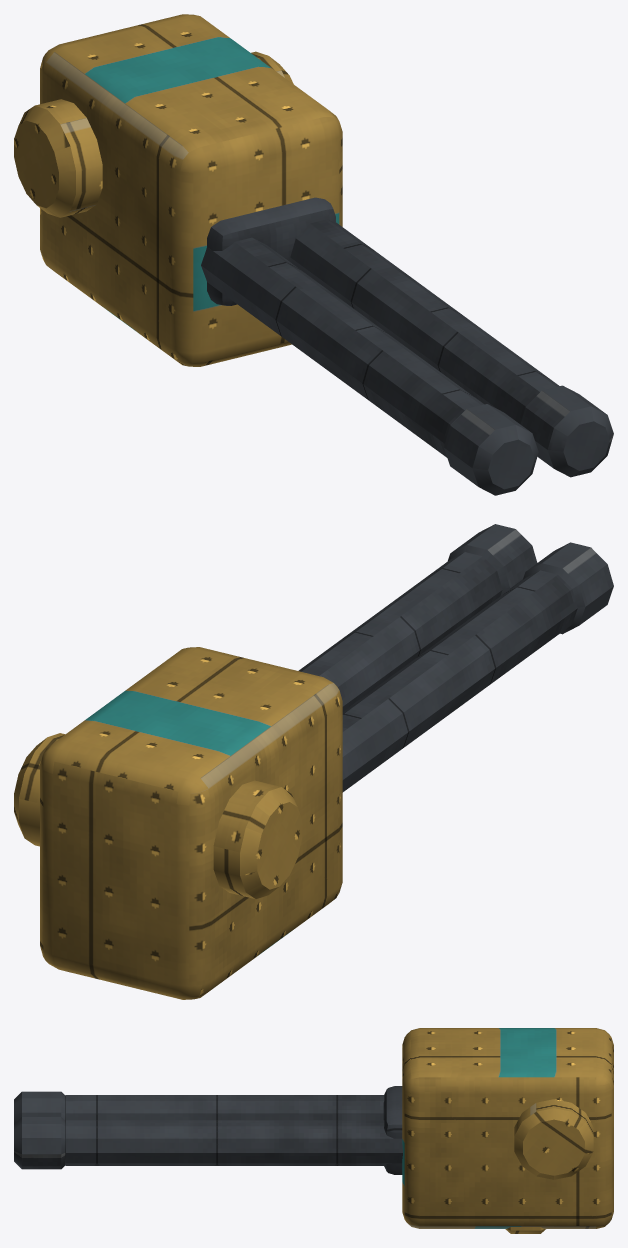
The model's file is titan_cannon_autocannon.fbx.
3 renders of one model, top to bottom at view 1: azimuth 30°, elevation 25°; view 2: azimuth 150°, elevation 25°; view 3: azimuth 270°, elevation 25°, orthographic. The views are drawn at different scales.
Parts seen in each view (by area): view 1: Autocannon_Housing, Autocannon_Barrel; view 2: Autocannon_Housing, Autocannon_Barrel; view 3: Autocannon_Housing, Autocannon_Barrel.
Part boxes in pixels (<box>): Autocannon_Housing: <box>14,14,342,366</box>; Autocannon_Barrel: <box>201,197,613,495</box>; Autocannon_Housing: <box>14,647,342,999</box>; Autocannon_Barrel: <box>298,524,613,792</box>; Autocannon_Housing: <box>402,1028,613,1233</box>; Autocannon_Barrel: <box>14,1086,402,1174</box>.
Size of the model in its own units: 220 by 200 by 680.
